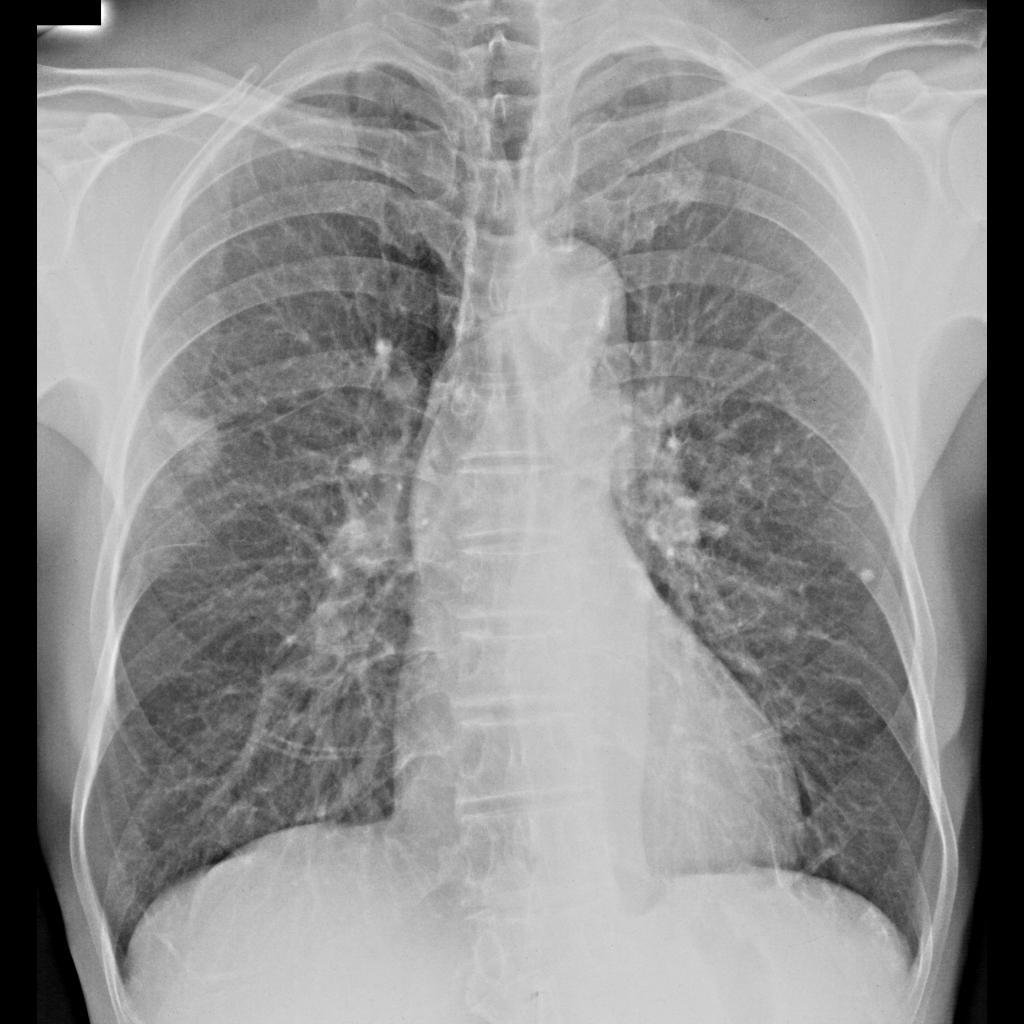Nodule: (170, 414, 229, 473)
